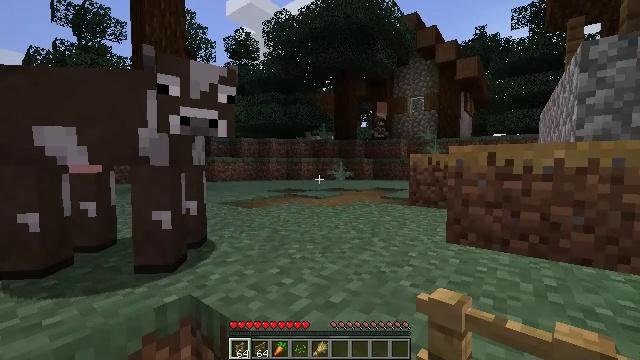cow: (2, 58, 236, 281)
